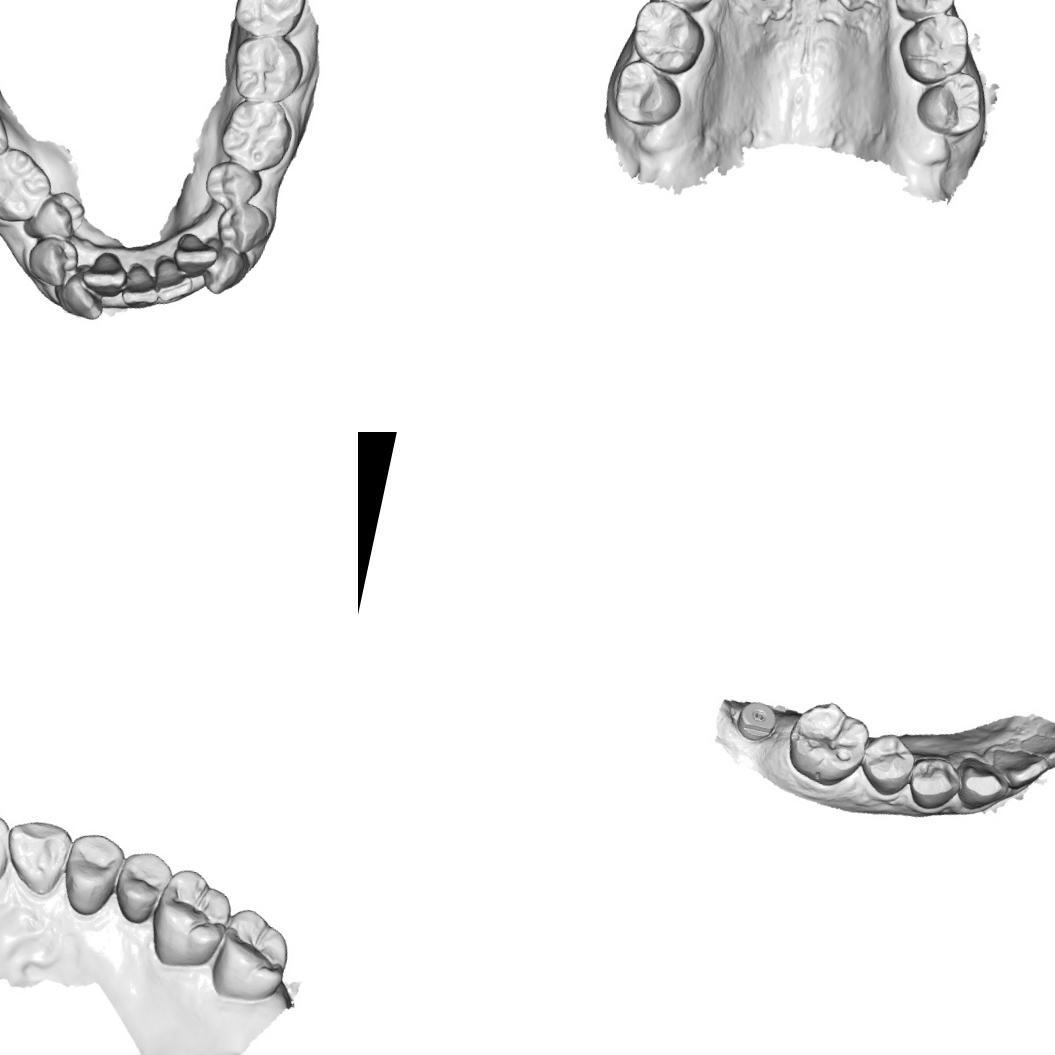canine: (0, 813, 74, 900), (950, 754, 1016, 818), (193, 235, 254, 302), (53, 266, 112, 322)
implant: (732, 696, 781, 746)
incisor: (984, 744, 1054, 797), (168, 230, 223, 284), (146, 253, 200, 308), (78, 247, 130, 300), (119, 260, 164, 313), (1013, 728, 1055, 773), (0, 805, 18, 891)
molar: (142, 862, 238, 976), (208, 902, 300, 1008), (779, 693, 874, 794), (890, 4, 976, 94), (215, 90, 301, 176), (226, 27, 310, 108), (625, 0, 710, 79), (910, 63, 992, 143), (604, 54, 686, 132), (0, 141, 59, 230), (229, 0, 312, 45), (0, 86, 19, 174)
premolar: (58, 828, 125, 920), (109, 846, 174, 928), (854, 726, 920, 800), (902, 750, 967, 816), (210, 196, 274, 260), (200, 156, 268, 215), (27, 184, 90, 246), (22, 230, 84, 292), (890, 0, 961, 27)
